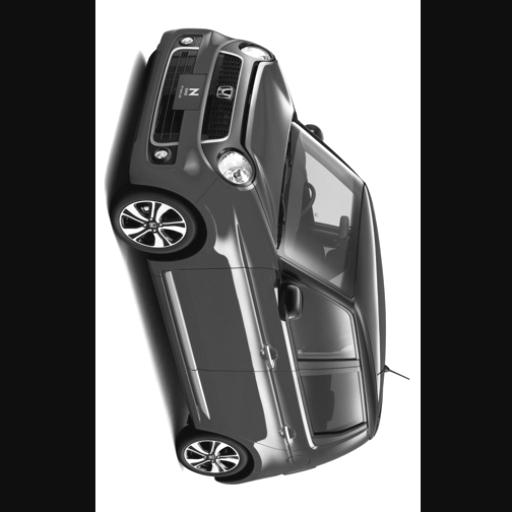hatchback: (111, 29, 387, 484)
